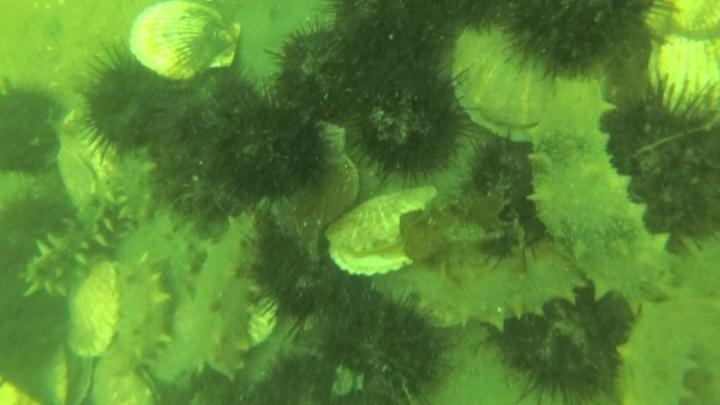echinus: (316, 288, 454, 404), (347, 61, 473, 187), (493, 293, 635, 404), (210, 93, 336, 213), (494, 1, 665, 86), (244, 223, 363, 337), (76, 47, 185, 162), (267, 18, 369, 120), (332, 2, 448, 82), (155, 143, 243, 236), (171, 70, 265, 154), (1, 287, 72, 386), (463, 138, 542, 226), (1, 77, 66, 178), (1, 188, 75, 274), (247, 349, 341, 405), (135, 359, 242, 404)
holothurian: (515, 79, 682, 322), (151, 207, 268, 390), (389, 246, 590, 334), (611, 254, 720, 405), (20, 160, 134, 300), (95, 251, 177, 391), (110, 210, 209, 294), (111, 143, 160, 230)
scallop: (442, 21, 555, 143), (75, 252, 174, 379), (321, 184, 444, 281), (125, 1, 244, 87), (52, 115, 123, 220), (644, 33, 719, 121), (5, 341, 102, 405), (64, 258, 123, 362), (291, 155, 363, 229), (658, 1, 720, 44), (241, 291, 282, 351)
